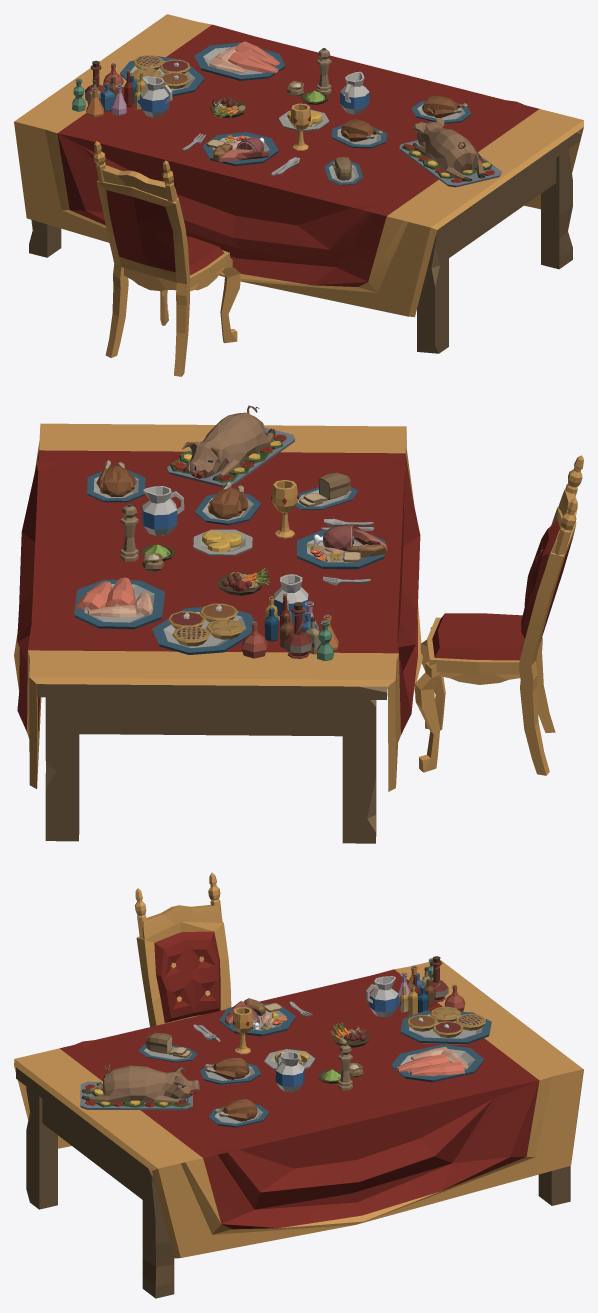
File: God_table_01.fbx
3 renders of one model, top to bottom at view 1: azimuth 30°, elevation 25°; view 2: azimuth 150°, elevation 25°; view 3: azimuth 270°, elevation 25°, orthographic. The views are drawn at different scales.
Visible parts, largest first — view 1: SM_Prop_Table_Wood_09, SM_Prop_Chair_Fancy_03; view 2: SM_Prop_Table_Wood_09, SM_Prop_Chair_Fancy_03; view 3: SM_Prop_Table_Wood_09, SM_Prop_Chair_Fancy_03.
Part boxes in pixels (bbox=[...]): SM_Prop_Table_Wood_09: bbox=[14, 14, 583, 353]; SM_Prop_Chair_Fancy_03: bbox=[93, 141, 240, 376]; SM_Prop_Table_Wood_09: bbox=[14, 405, 422, 843]; SM_Prop_Chair_Fancy_03: bbox=[414, 455, 583, 775]; SM_Prop_Table_Wood_09: bbox=[14, 956, 583, 1298]; SM_Prop_Chair_Fancy_03: bbox=[135, 872, 231, 1026].
Size of the model in its own units: 722 by 334 by 771.
